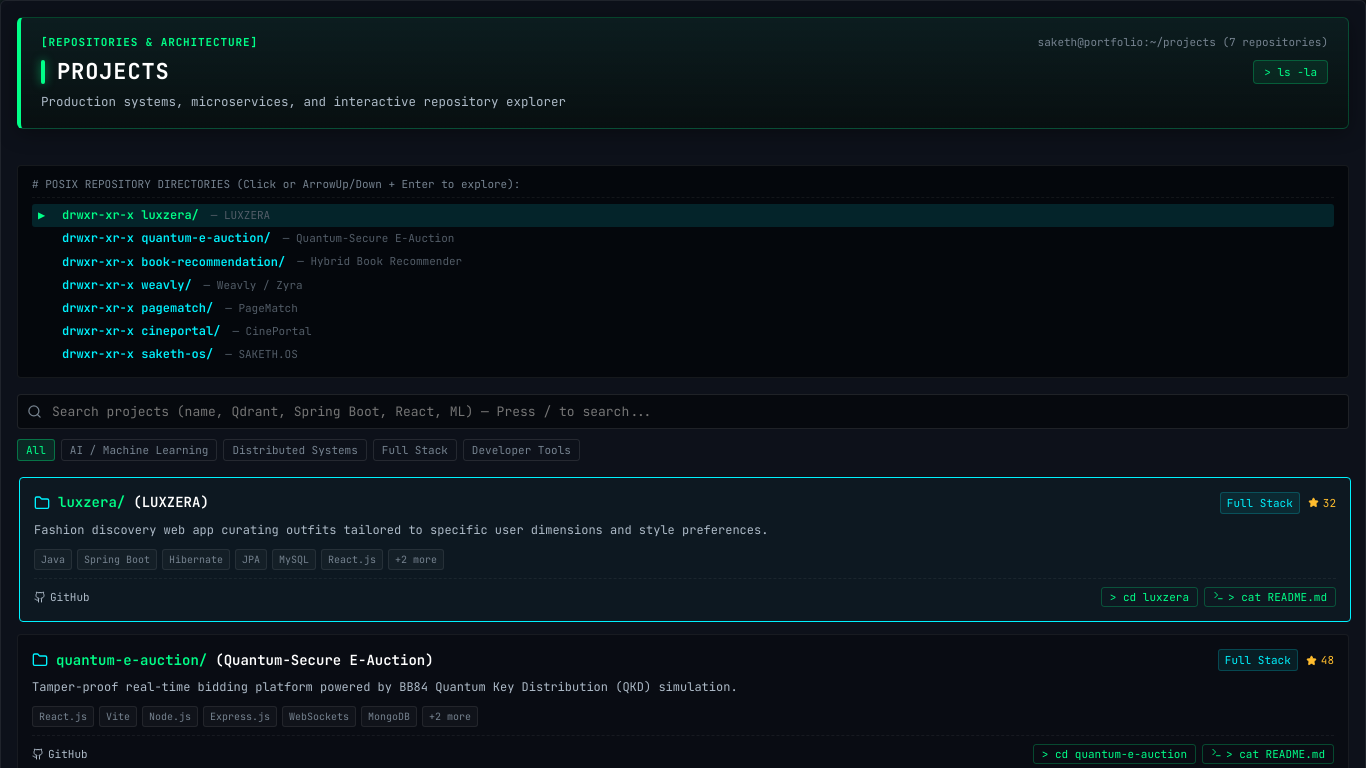
Test: Phase 6 — Project Exploration System › renders ProjectExplorer with search, category filtering, and project list
This screenshot has width=1366, height=768.
expect the button "AI / Machine Learning" is shown: met, box top-left (61, 438), bottom-right (217, 460)
expect the button "Distributed Systems" is shown: met, box top-left (223, 438), bottom-right (367, 460)
Note: Search filter interaction
Replace the text in the field with placeholder "Search projects" with "Zyra" at (683, 411), box top-left (17, 394), bottom-right (1349, 428)
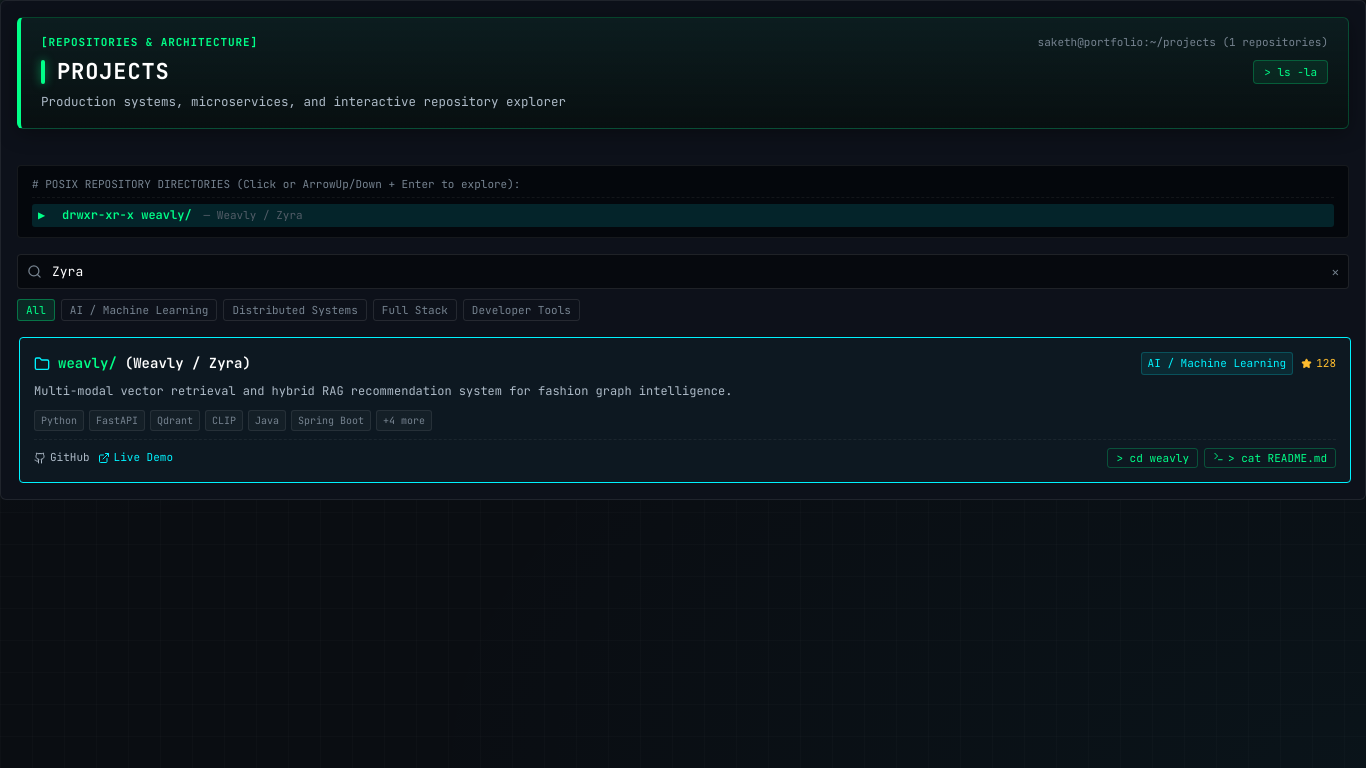
expect the text "weavly/" is shown: met, box top-left (58, 353), bottom-right (117, 374)
